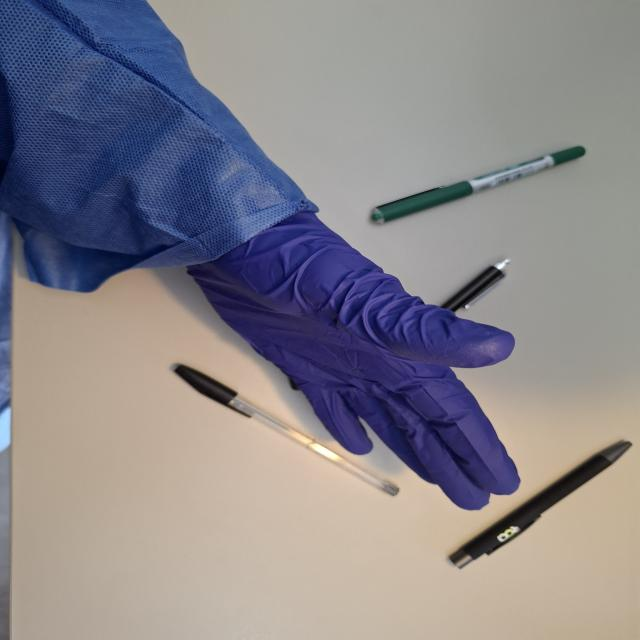glove_on: (170, 192, 525, 510)
